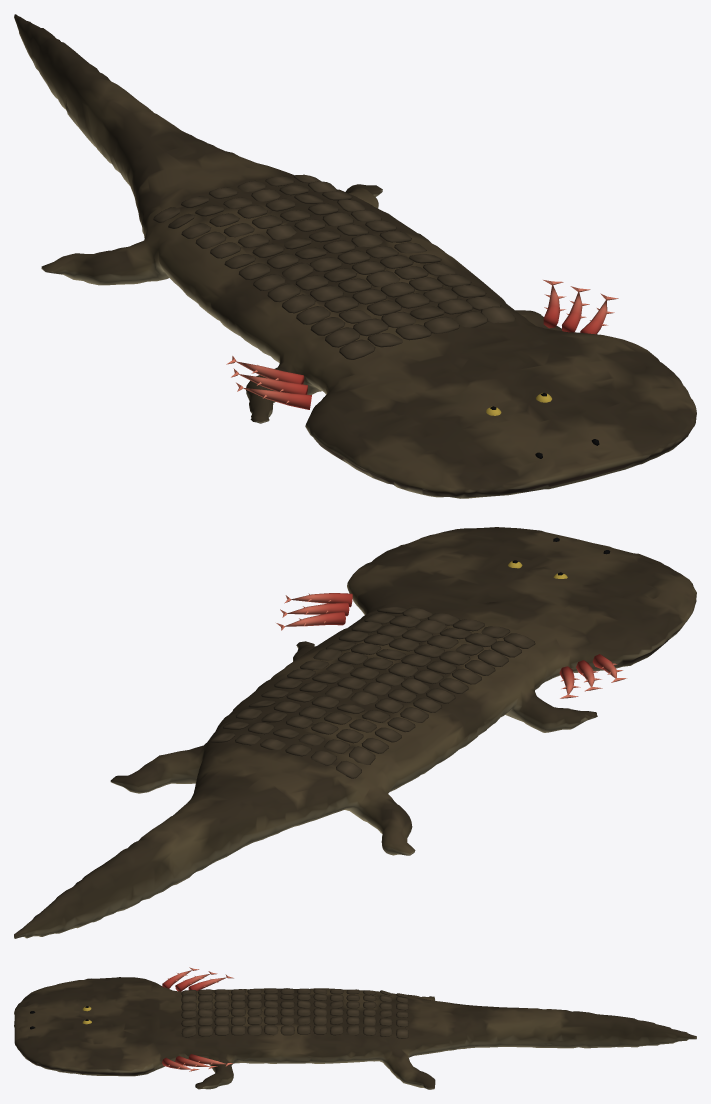
The model's file is Gerrothorax.fbx.
The picture shows the model from 3 angles, top to bottom: view 1: azimuth 30°, elevation 25°; view 2: azimuth 150°, elevation 25°; view 3: azimuth 270°, elevation 25°; orthographic projection. The views are drawn at different scales.
Parts seen in each view (by area): view 1: Gerrothorax; view 2: Gerrothorax; view 3: Gerrothorax.
Boxes of the visible parts, x1,y1,x2,y2 form: Gerrothorax: (14,14,696,498); Gerrothorax: (14,527,696,938); Gerrothorax: (14,967,696,1089).
Bounding box in the file's own units: 0.6793 × 0.1316 × 1.87.
